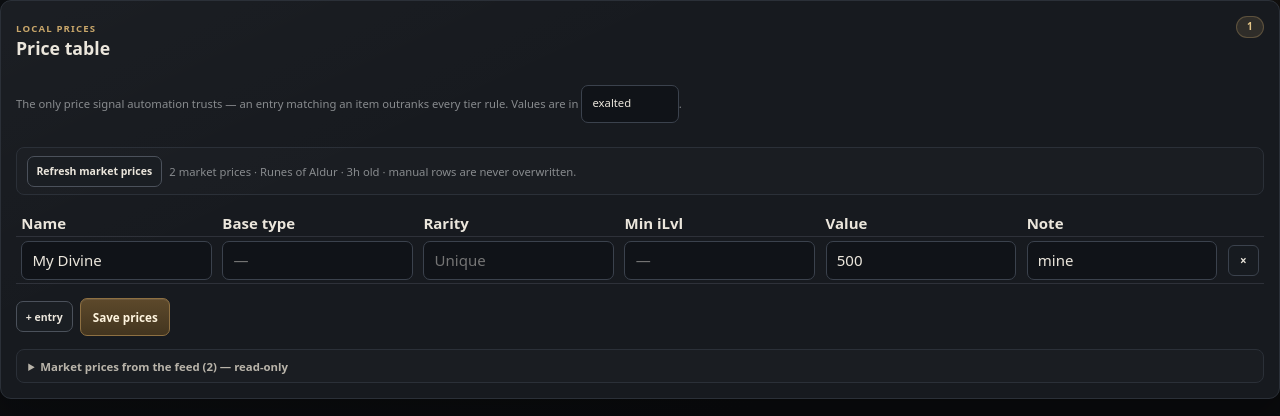
Scenario: PriceTableEditor with feed entries › surfaces feed status and refreshes on demand
The width and height of the screenshot is (1280, 416).
Click the button "Refresh market prices": (94, 171) [27,156,162,187]
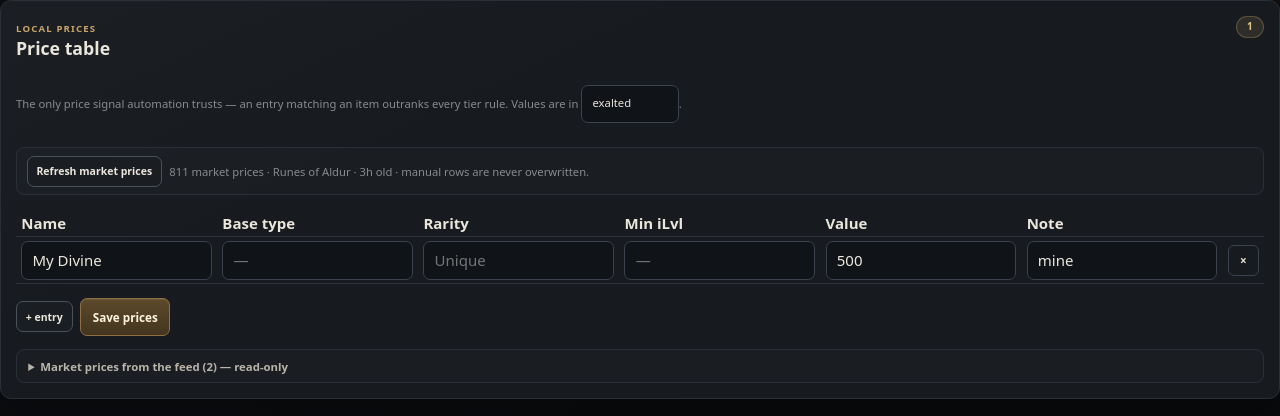
Expected: the text "811 market prices" is shown, [169,164,589,179]
